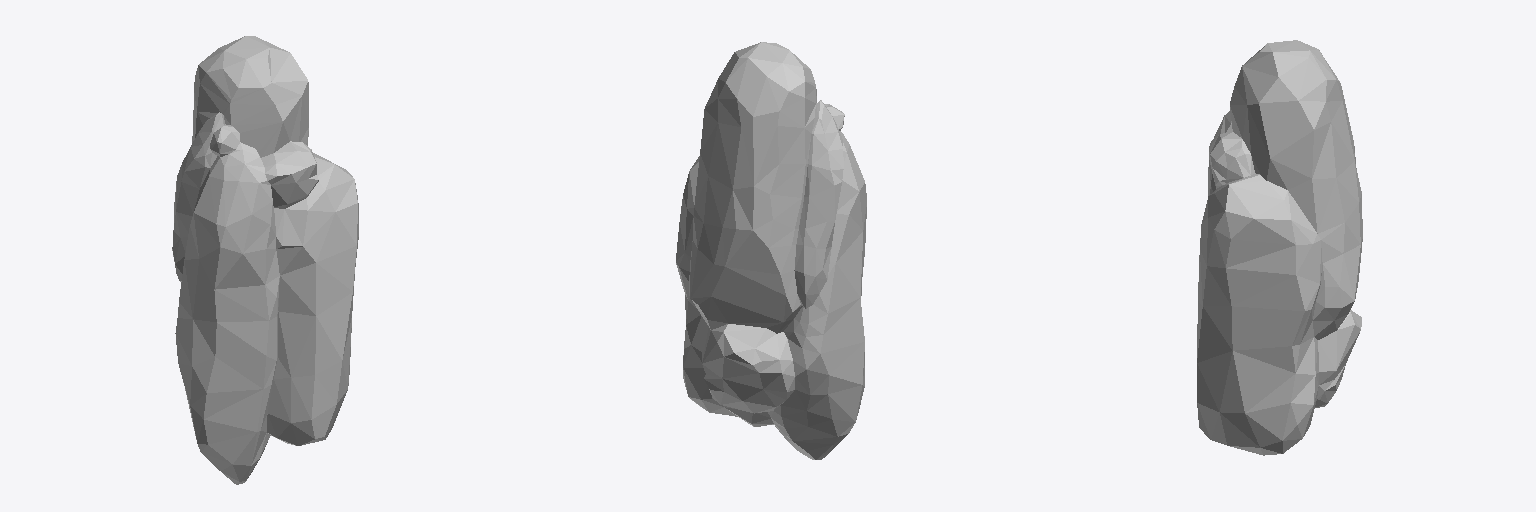
Rendered from rock.obj.
The picture shows the model from 3 angles: view 1: azimuth 30°, elevation 25°; view 2: azimuth 150°, elevation 25°; view 3: azimuth 270°, elevation 25°; orthographic projection.
Visible parts, largest first — view 1: RockForm02_LP; view 2: RockForm02_LP; view 3: RockForm02_LP.
Part boxes in pixels (left/top/right/bottom): RockForm02_LP: left=172, top=36, right=358, bottom=484; RockForm02_LP: left=676, top=42, right=866, bottom=459; RockForm02_LP: left=1197, top=40, right=1362, bottom=455.
Size of the model in its own units: 3.14 by 7.79 by 2.81.